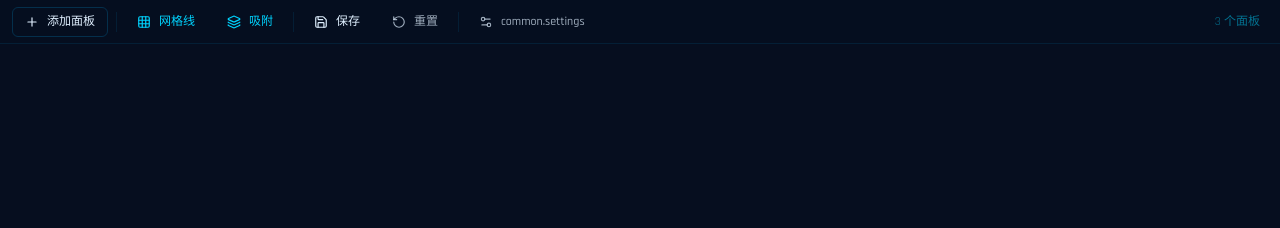
Test: PanelToolbar › 点击外部关闭菜单
Click the button "添加面板". click: click(60, 22)
box: [12,6,108,36]
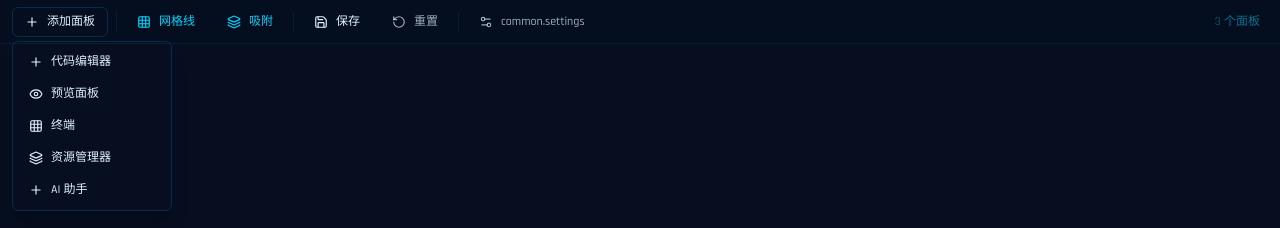
Now the element with class "top-full" is shown, box [12,40,172,210]
外部 mousedown → 菜单关闭
Press the mouse on the element that starts with "添加面板" at (640, 22), box [0,0,1279,44]
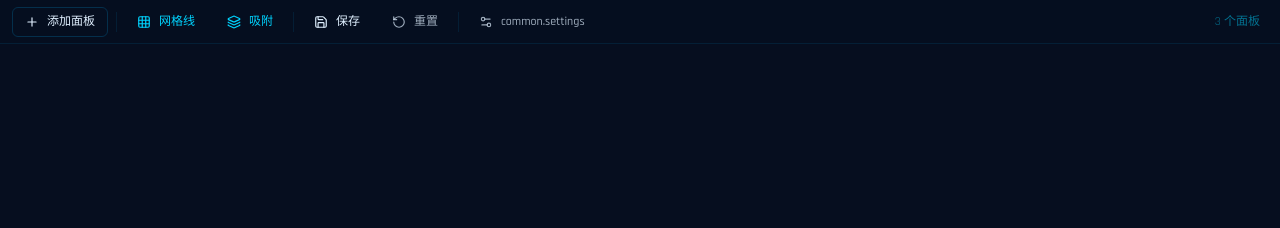
Now the element with class "top-full" is gone
